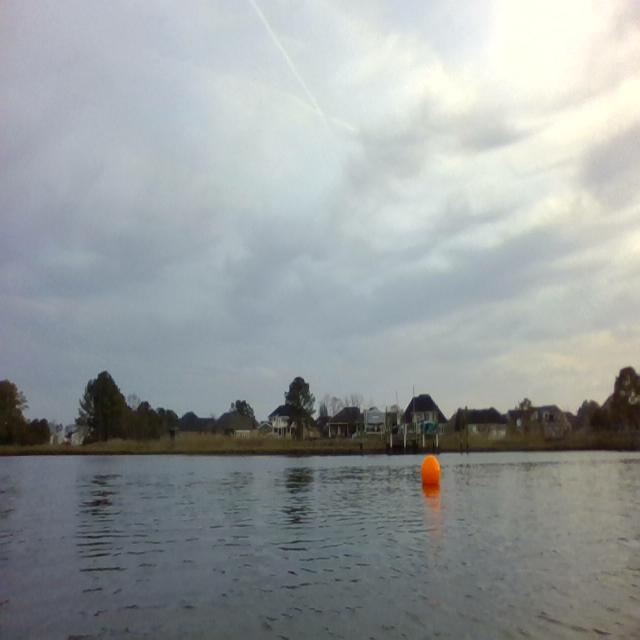Buoy: (419, 454, 441, 490)
